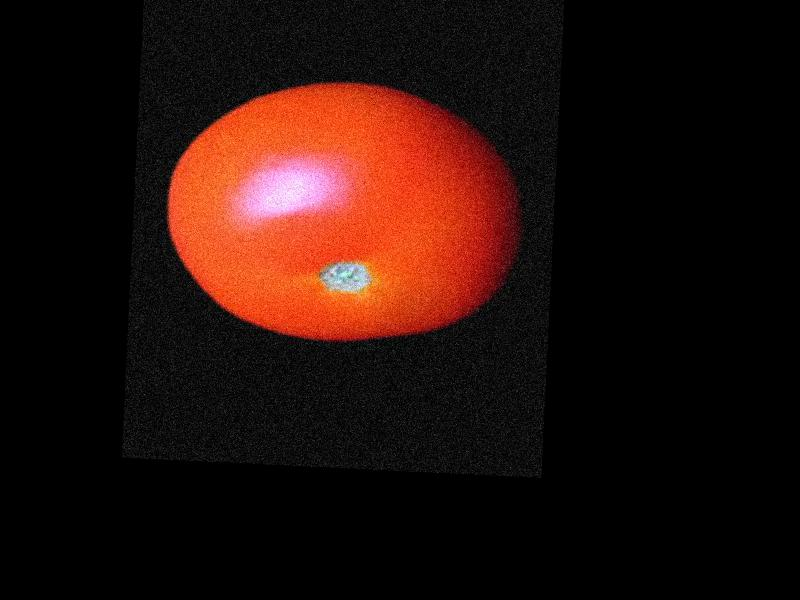Tomato: (160, 74, 527, 349)
